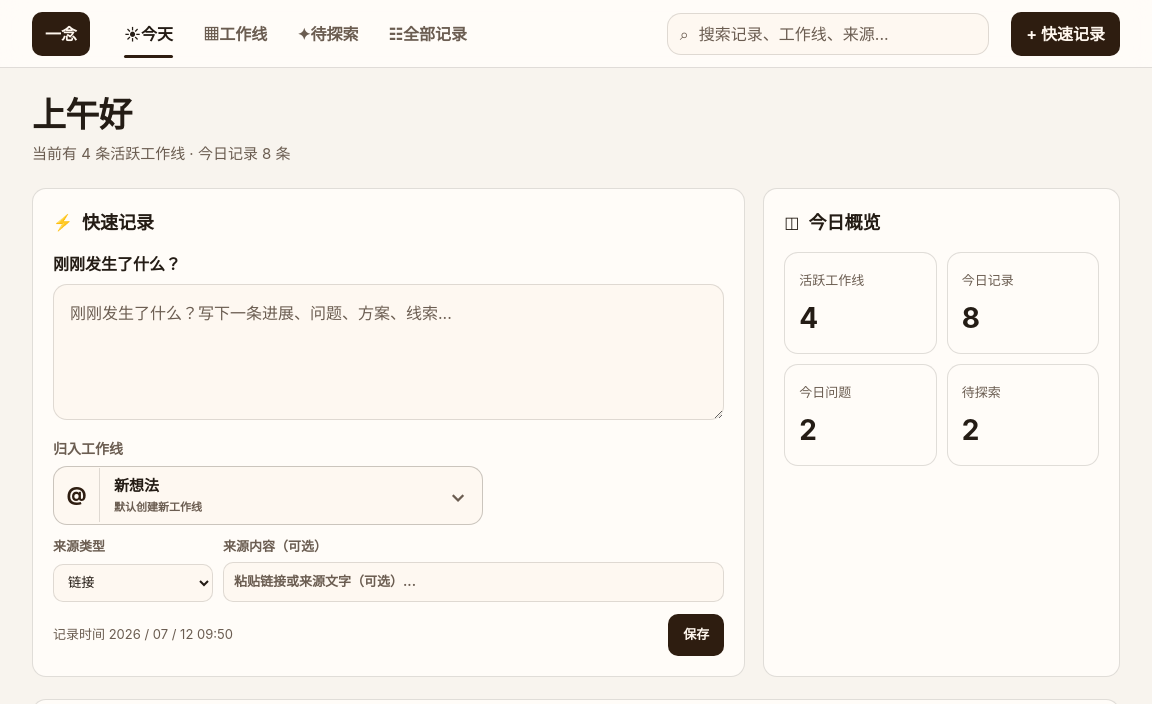
it: Yinian six-page product shell › edits and deletes records directly in the workline progress stream
The width and height of the screenshot is (1152, 704).
Expected: the heading "上午好" is shown, [32,94,132,135]
Click the button "▦工作线" at (235, 34), box [191,10,279,58]
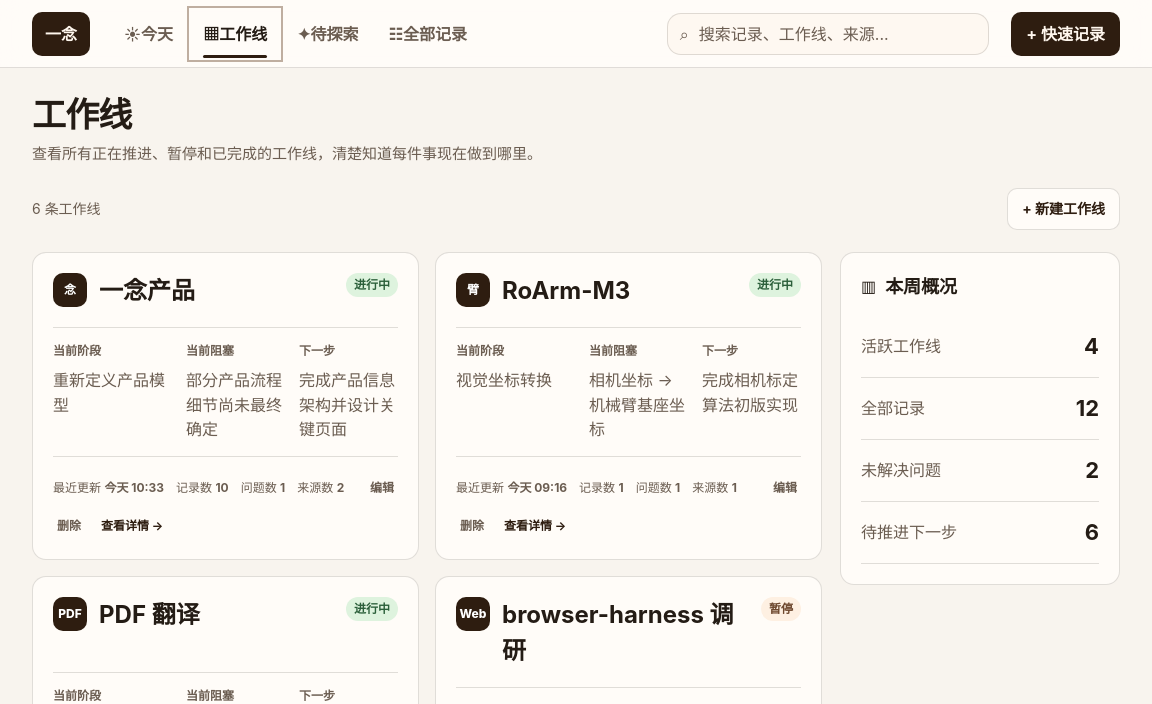
Click the button with aria-label "查看一念产品详情" at (132, 526), box [97,513,167,539]
(page scrolled)
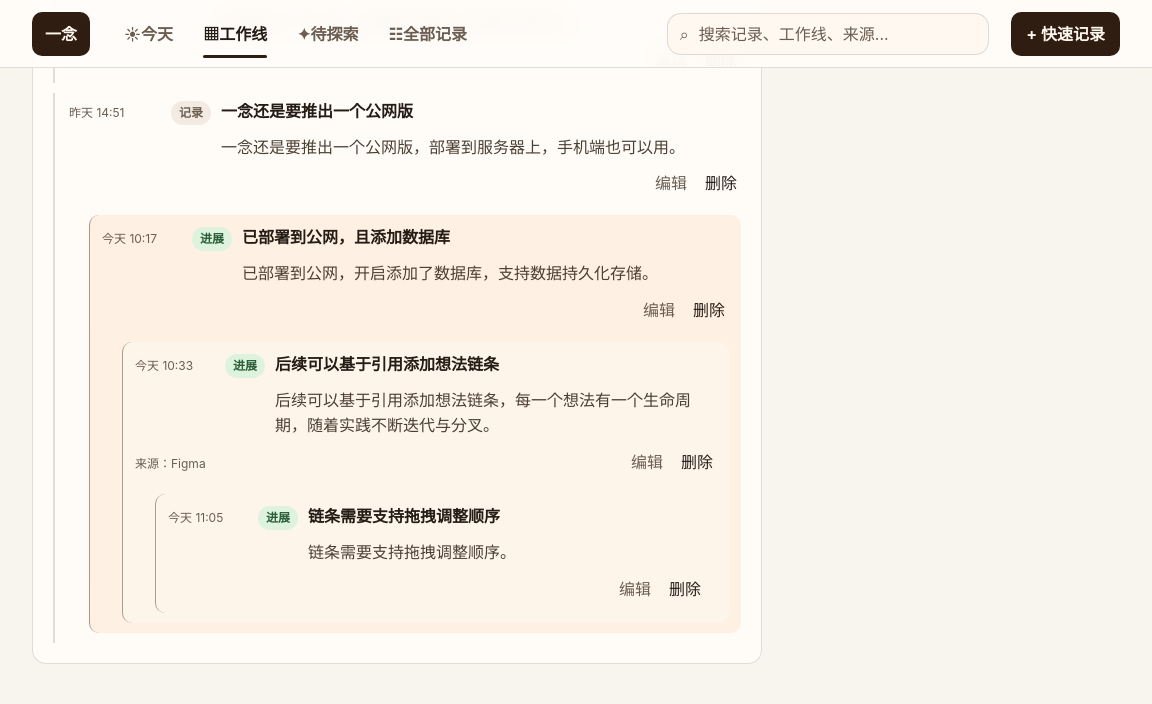
Click the button with aria-label "编辑后续可以基于引用添加想法链条" at (647, 462), box [627,448,667,476]
(page scrolled)
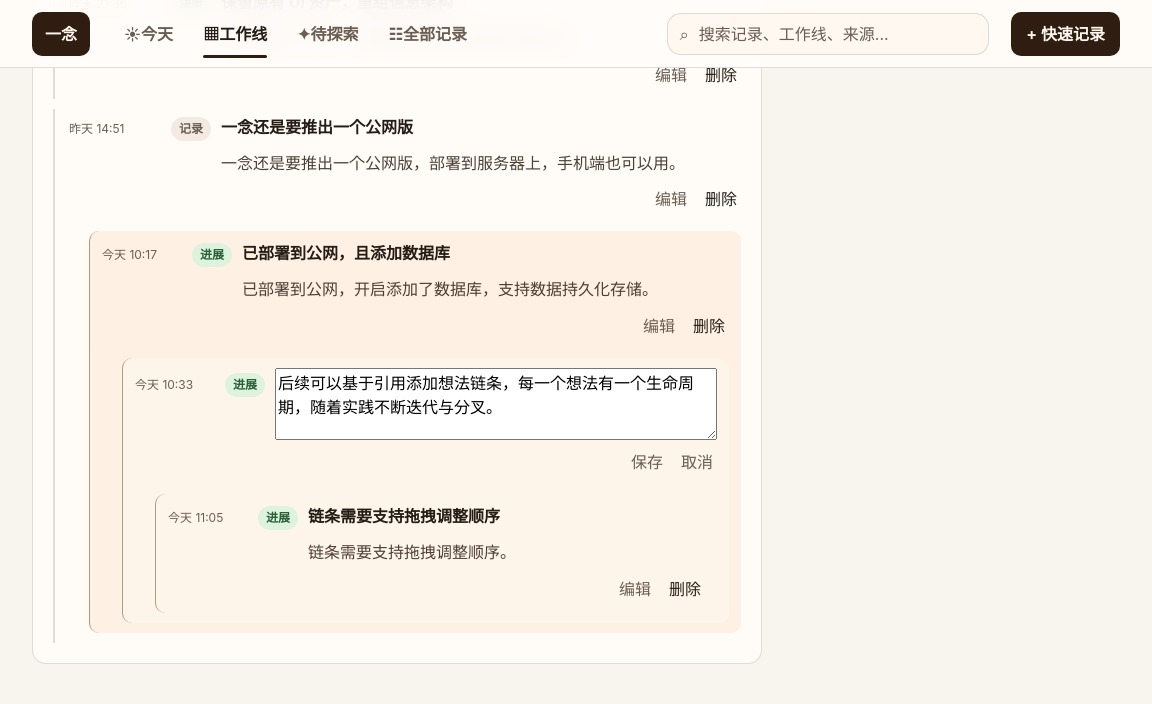
Replace the text in the text box named "编辑后续可以基于引用添加想法链条" with "进展流里直接完成编辑" at (496, 404), box [275,368,717,440]
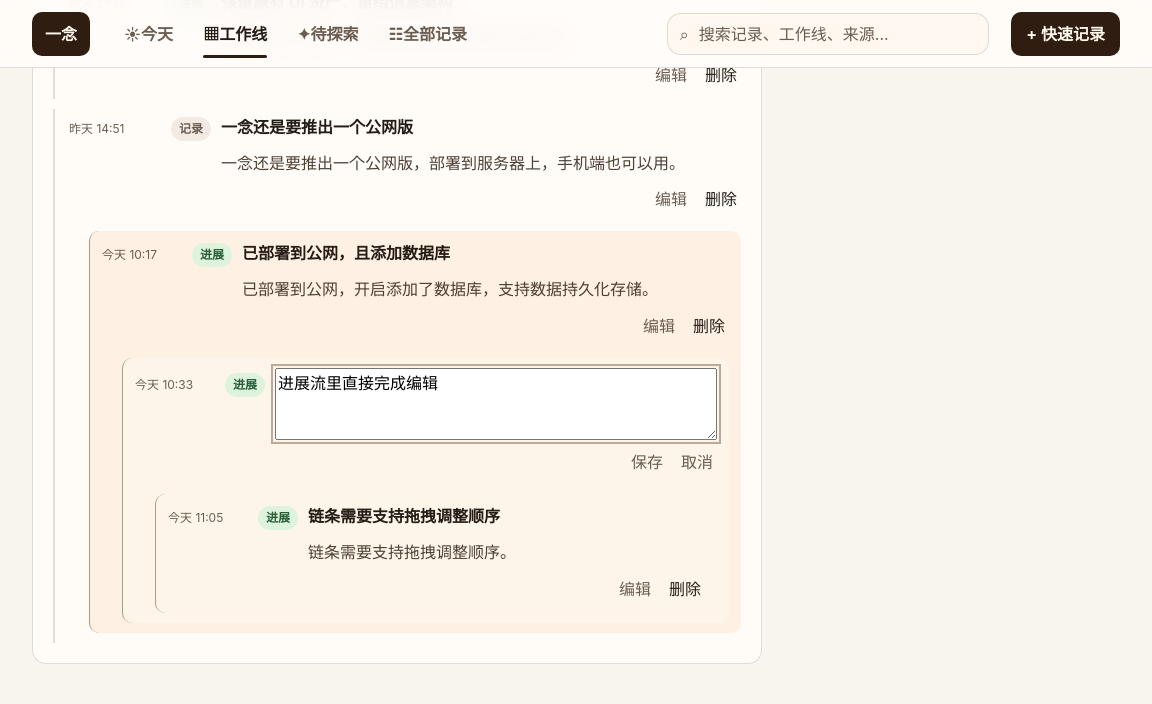
Click the button with aria-label "保存后续可以基于引用添加想法链条" at (647, 462), box [627,448,667,476]
(page scrolled)
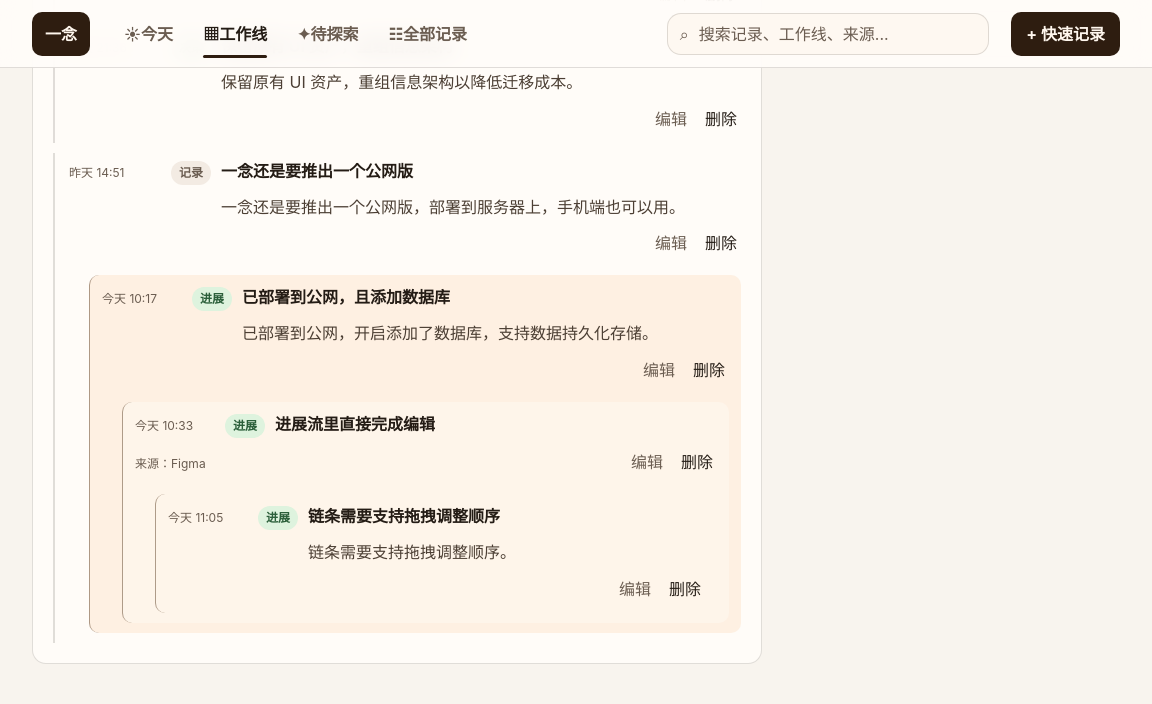
Result: the element named "进展流记录" shows "进展流里直接完成编辑" at [275,414,435,434]
Result: the text "进展流里直接完成编辑" is shown at [275,414,435,434]
Click the button with aria-label "删除已部署到公网，且添加数据库" at (709, 370), box [689,356,729,384]
(page scrolled)
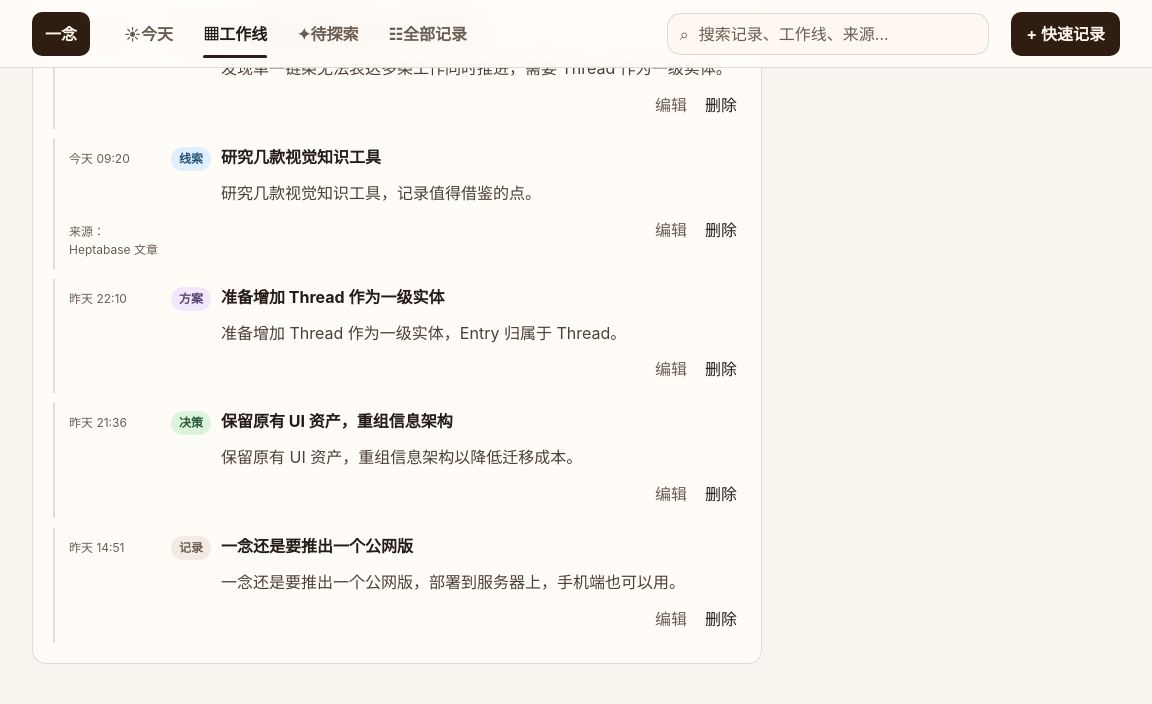
Result: the text "已部署到公网，且添加数据库" is gone
